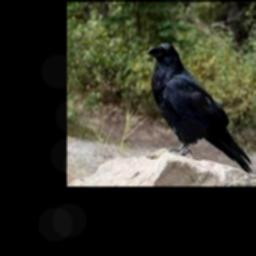Crow: (146, 43, 252, 174)
